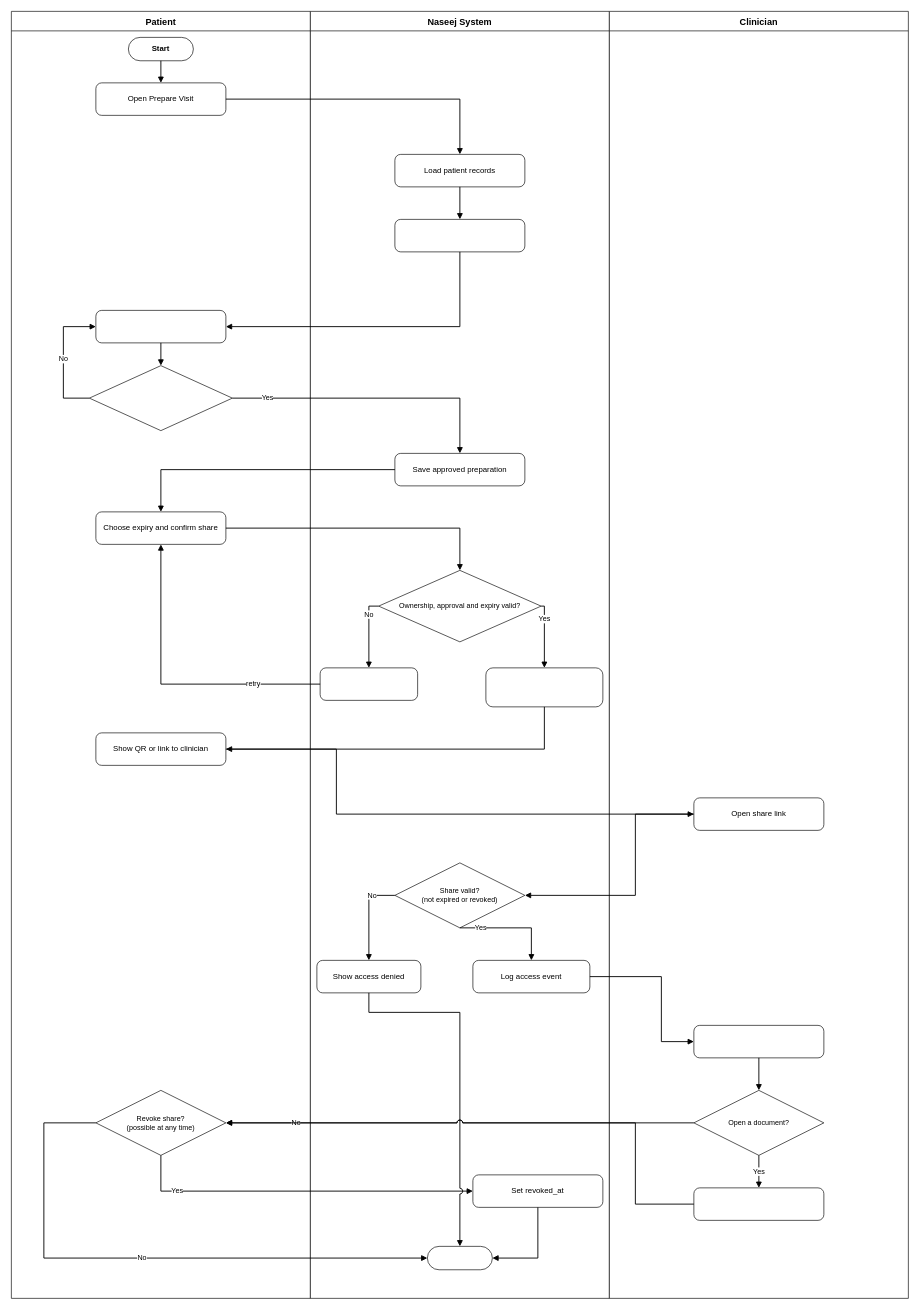
Image size: 920x1310. Some labels were removed from this diagram. The box of each missing label's shape, as (x1, y1, x2, y2) in pixels:
Approve summary?: (89, 365, 232, 431)
End: (427, 1246, 492, 1270)
Generate draft with source references: (394, 219, 525, 252)
Open permitted shared document: (693, 1187, 824, 1220)
Read approved summary: (693, 1025, 824, 1058)
Select documents, edit and review summary: (95, 310, 226, 343)
Show validation error: (319, 667, 418, 700)
Store snapshot, token hash and document grants: (485, 667, 603, 707)
